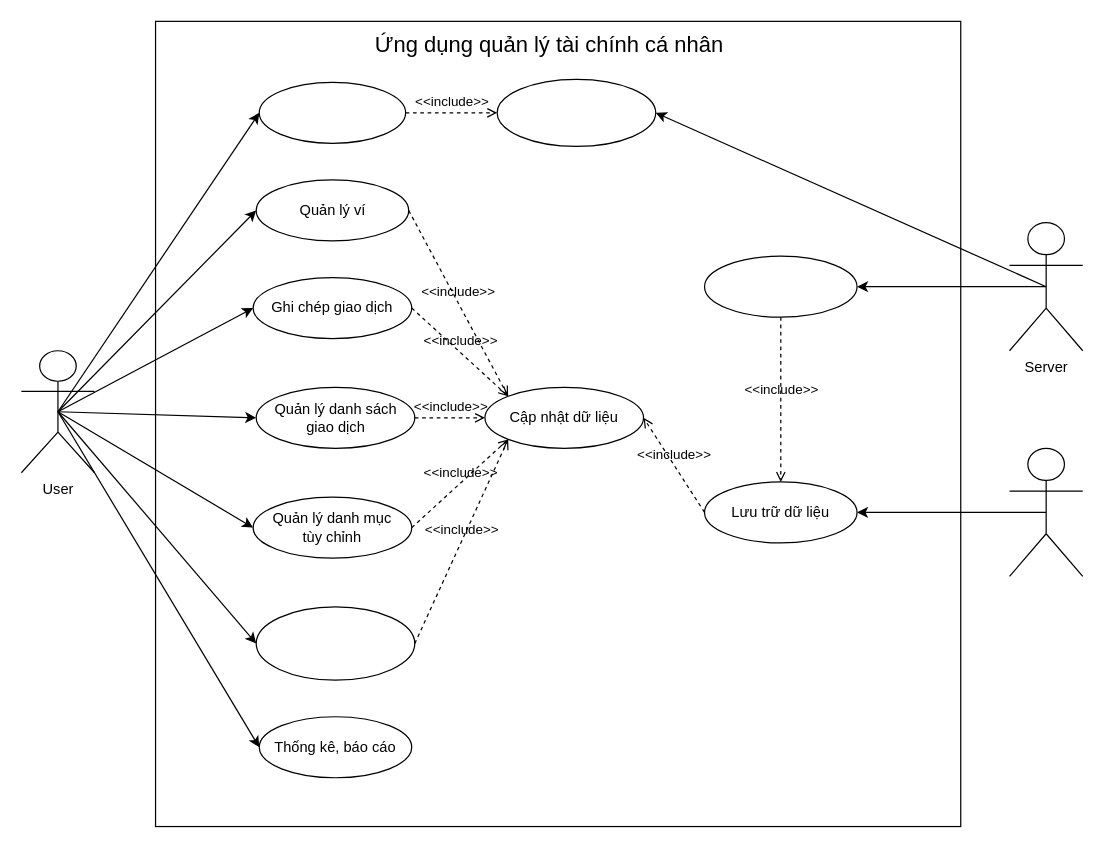
The diagram is 1104 pixels wide and 848 high, and some of its shapes have lost their labels. Here are the shapes that lost their labels. From the top down, the centre of each, then its label:
(x=332, y=112): Đăng nhập/ đăng ký
(x=576, y=112): Xác thực
(x=780, y=286): Đồng bộ dũ liệu
(x=1045, y=511): SQLite DB
(x=335, y=643): Quản lý ngân sách
